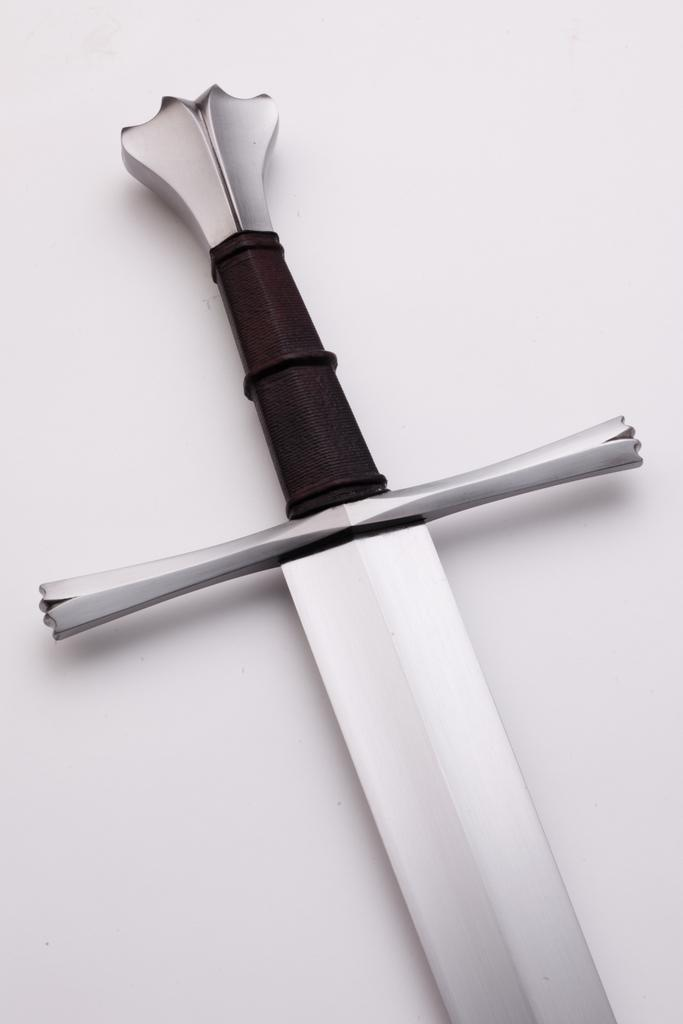Sword: (38, 84, 644, 1023)
